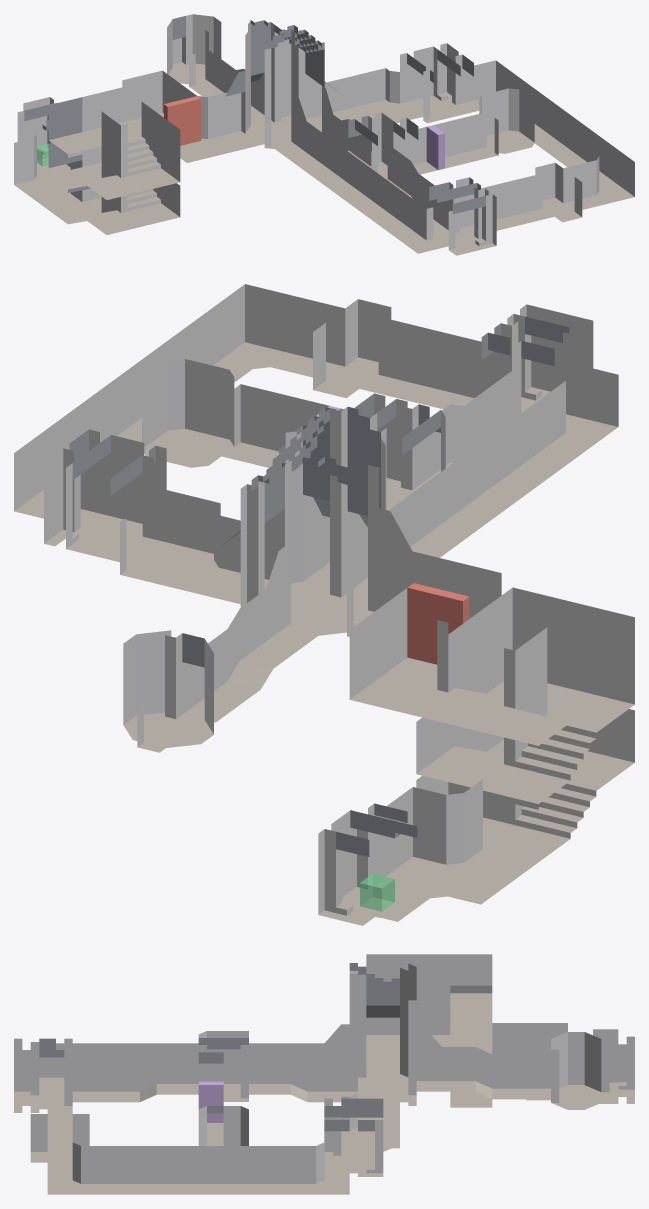
Rendered from works_10.glb.
3 views of the same model, one above another, from view 1: azimuth 30°, elevation 25°; view 2: azimuth 150°, elevation 25°; view 3: azimuth 270°, elevation 25° (orthographic). The views are drawn at different scales.
Visible parts, largest first — view 1: room:7, corridor:8, corridor:7, corridor:1, room:5, corridor:4, corridor:5, room:6, room:1/portals, room:0, corridor:6, room:4 (+19 smaller); view 2: room:7, corridor:8, corridor:7, corridor:6, corridor:1, room:5, corridor:4, room:6, room:1/portals, room:1/cavern, room:0, corridor:0 (+18 smaller); view 3: corridor:8, corridor:3, room:7, corridor:0, corridor:1, corridor:2, room:0, room:5, room:1/portals, room:1, corridor:7, room:3 (+17 smaller).
Part boxes in pixels (<box>): room:7: <box>48,87,180,234</box>; corridor:8: <box>462,60,634,230</box>; corridor:7: <box>287,121,444,253</box>; corridor:1: <box>122,70,245,162</box>; room:5: <box>400,43,473,123</box>; corridor:4: <box>325,68,418,123</box>; corridor:5: <box>406,112,498,174</box>; room:6: <box>479,88,534,153</box>; room:1/portals: <box>264,22,305,147</box>; room:0: <box>167,14,221,84</box>; corridor:6: <box>14,134,82,210</box>; room:4: <box>429,177,496,255</box>; room:7: <box>416,587,634,862</box>; corridor:8: <box>14,284,500,518</box>; corridor:7: <box>367,364,618,578</box>; corridor:6: <box>374,779,538,904</box>; corridor:1: <box>347,551,501,715</box>; room:5: <box>44,429,166,562</box>; corridor:4: <box>120,487,240,598</box>; room:6: <box>142,359,234,467</box>; room:1/portals: <box>247,407,379,627</box>; room:1/cavern: <box>251,407,380,522</box>; room:0: <box>123,630,213,747</box>; corridor:0: <box>182,589,298,722</box>; corridor:8: <box>30,1113,349,1194</box>; corridor:3: <box>72,1046,198,1102</box>; room:7: <box>366,954,492,1107</box>; corridor:0: <box>442,1047,550,1099</box>; corridor:1: <box>366,985,492,1063</box>; corridor:2: <box>249,1050,324,1102</box>; room:0: <box>551,1032,601,1109</box>; room:5: <box>324,1098,383,1176</box>; room:1/portals: <box>349,974,416,1095</box>; room:1: <box>349,963,416,1105</box>; corridor:7: <box>39,1043,324,1091</box>; room:3: <box>198,1031,248,1101</box>.
Size of the model in its own units: 57 by 26 by 74.
